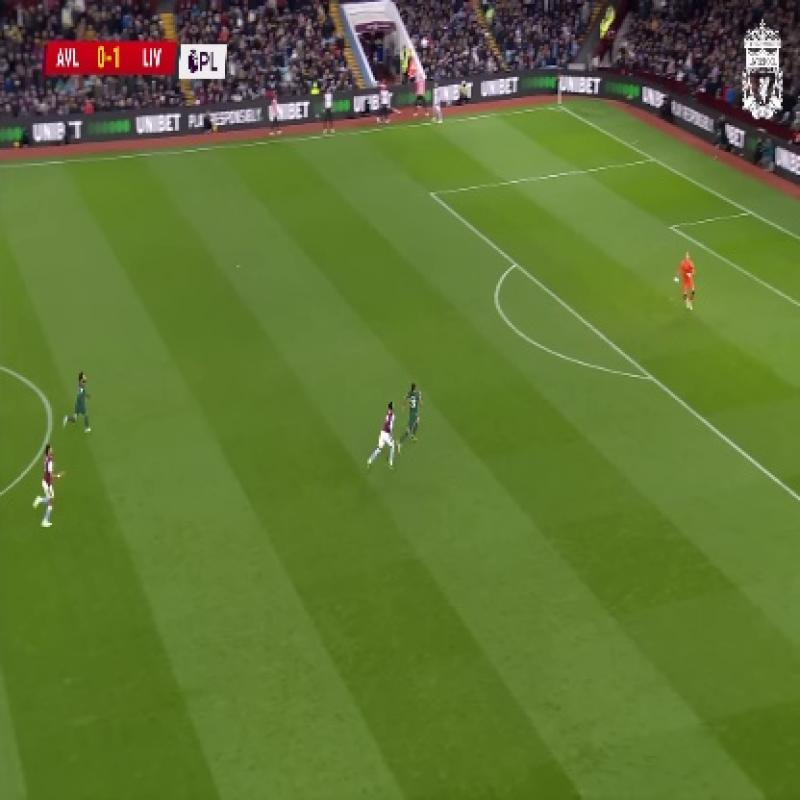1: (546, 96, 567, 114)
10: (506, 252, 524, 273)
11: (640, 364, 660, 388)
2: (644, 148, 660, 167)
3: (739, 200, 758, 221)
7: (661, 215, 679, 235)
9: (421, 181, 439, 204)
c: (30, 399, 70, 432)
